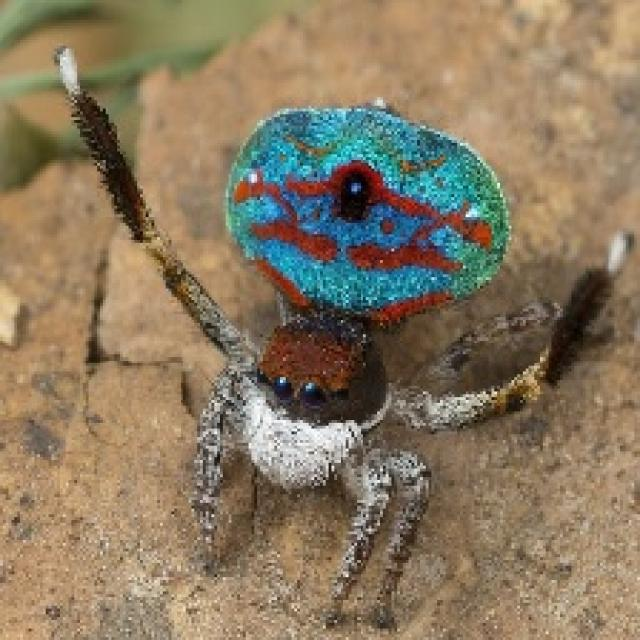Non venomous spider: (28, 26, 628, 619)
